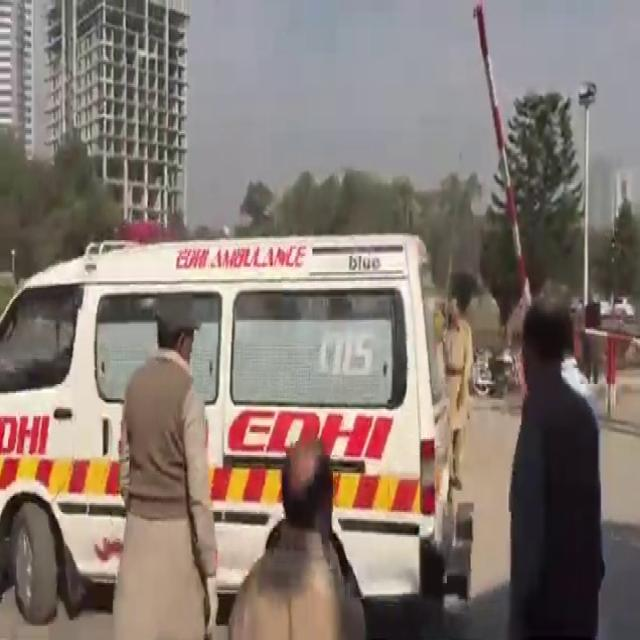ambulance: (1, 254, 446, 578)
